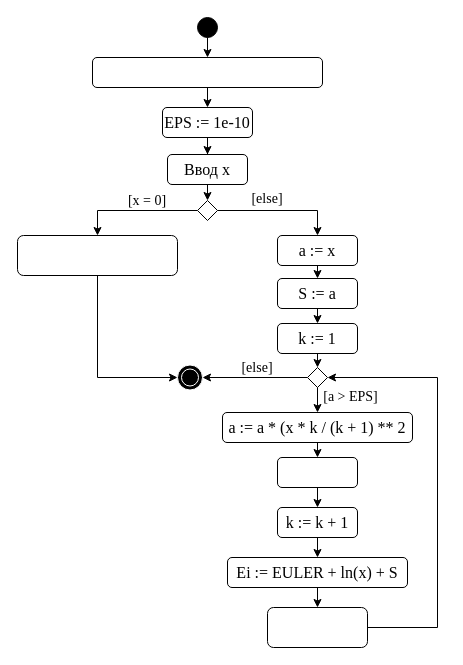
This 463x665 diagram has some shape labels left out. The shapes that lost their labels are listed below. From the top down, each one's centre as x and y in pixels, then its label:
point (207, 72): EULER := 0.5772156649015328606
point (97, 255): Вывод " Illegal value of x "
point (317, 472): S := S + a
point (317, 627): Вывод Ei
